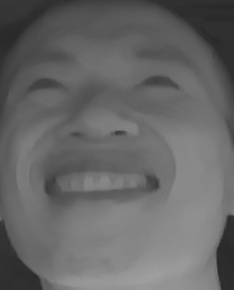eye: (127, 66, 182, 98), (27, 71, 66, 92)
